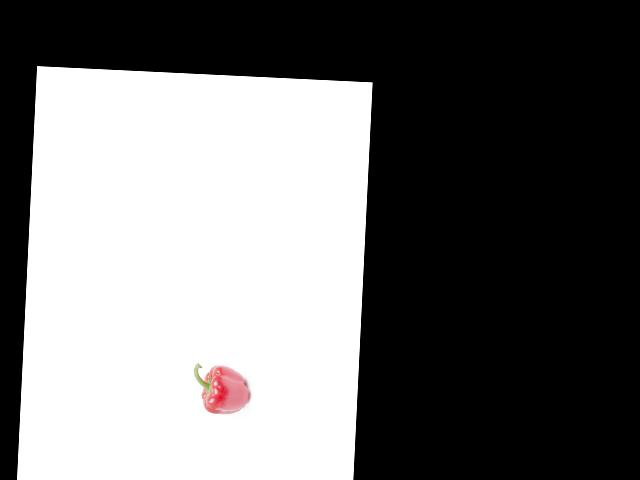bell_pepper: (190, 360, 252, 419)
